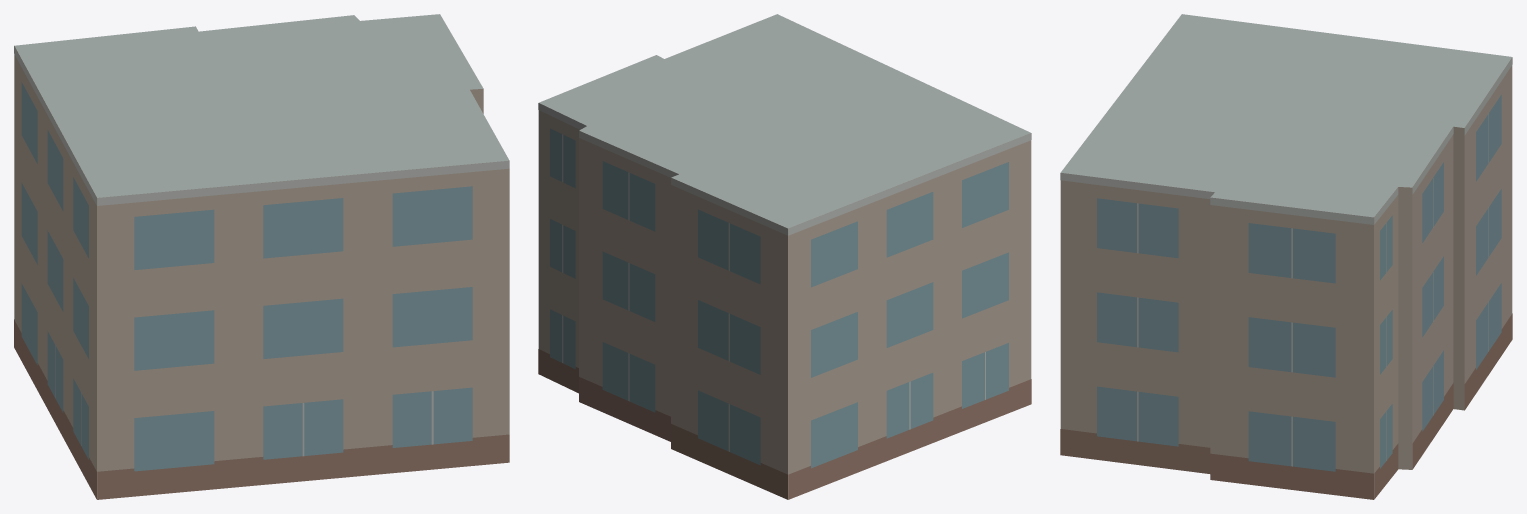
Rendered from survey-upis-32903346.glb.
The picture shows the model from 3 angles, left to right: view 1: azimuth 30°, elevation 25°; view 2: azimuth 150°, elevation 25°; view 3: azimuth 270°, elevation 25°; orthographic projection. The views are drawn at different scales.
Parts seen in each view (by area): view 1: survey-upis-32903346.tmp; view 2: survey-upis-32903346.tmp; view 3: survey-upis-32903346.tmp.
Boxes of the visible parts, bbox=[...] form: survey-upis-32903346.tmp: bbox=[14, 14, 509, 499]; survey-upis-32903346.tmp: bbox=[538, 14, 1031, 499]; survey-upis-32903346.tmp: bbox=[1060, 14, 1512, 499].
Bounding box in the file's own units: 14.15 × 9.15 × 13.28.
